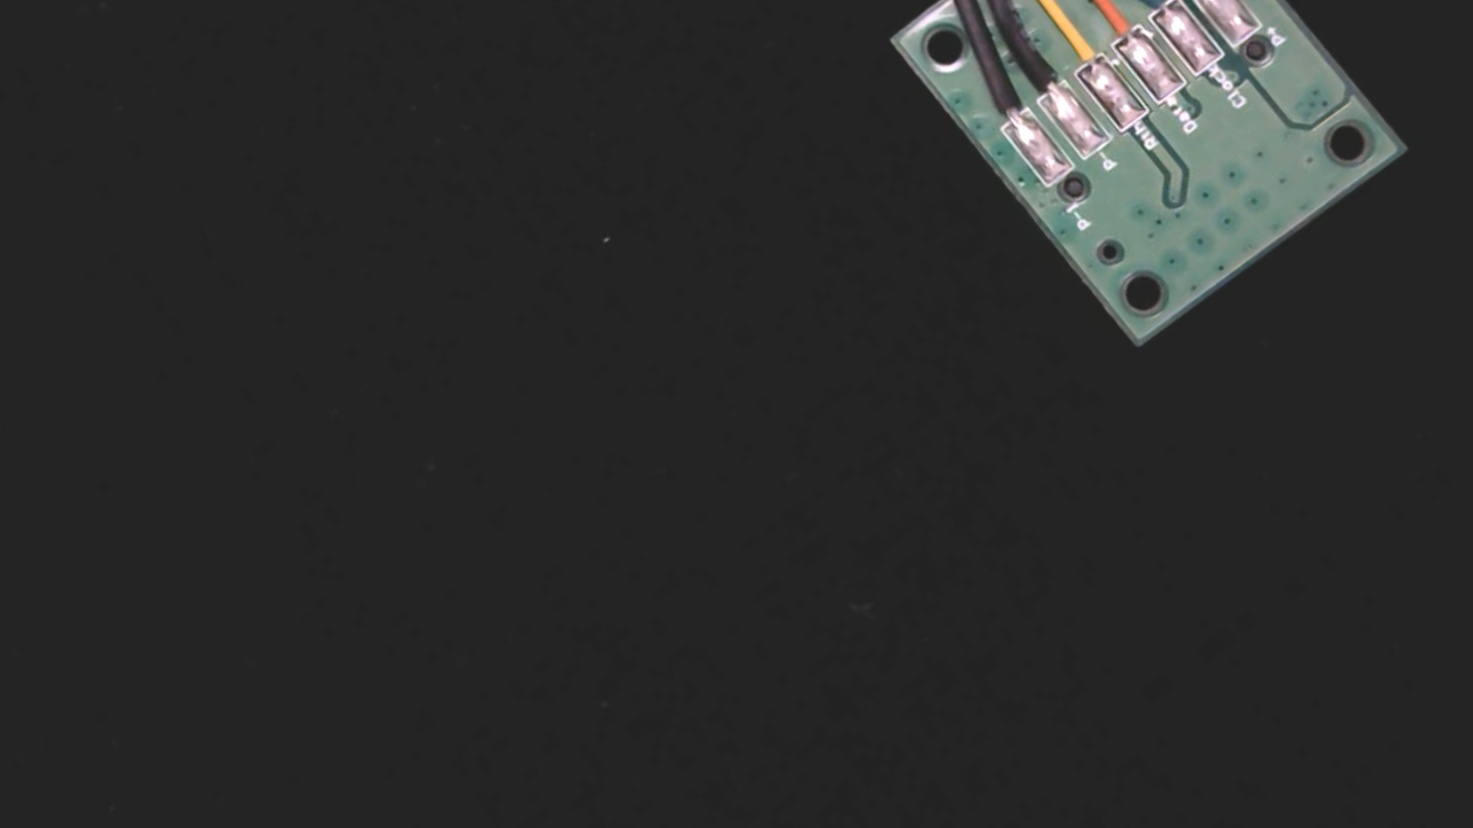Black: (1001, 34, 1078, 115)
Black1: (960, 58, 1042, 144)
Green: (1119, 0, 1193, 32)
Orange: (1080, 0, 1155, 59)
Red: (1148, 0, 1231, 4)
Yellow: (1037, 7, 1116, 88)
